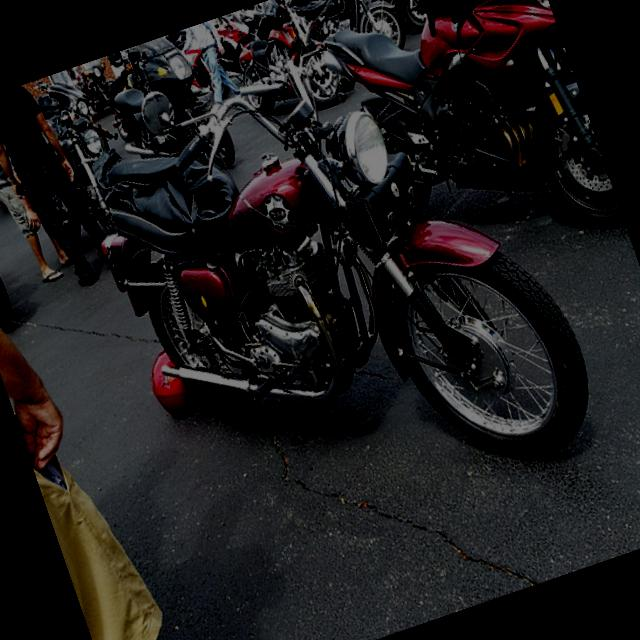Vehicle: (57, 0, 610, 570), (309, 0, 625, 295), (211, 0, 420, 134), (31, 60, 148, 242), (115, 27, 215, 136), (102, 73, 199, 169), (212, 0, 298, 55), (0, 143, 23, 338), (175, 32, 231, 107), (364, 0, 431, 37), (78, 59, 123, 114)
